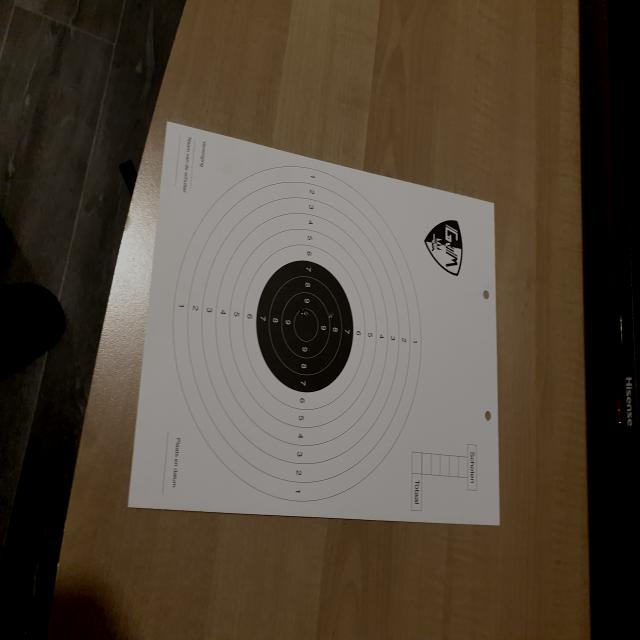10: (300, 307, 312, 319)
8: (328, 312, 334, 322)
Target: (172, 164, 422, 502)
black_contour: (256, 260, 354, 394)
